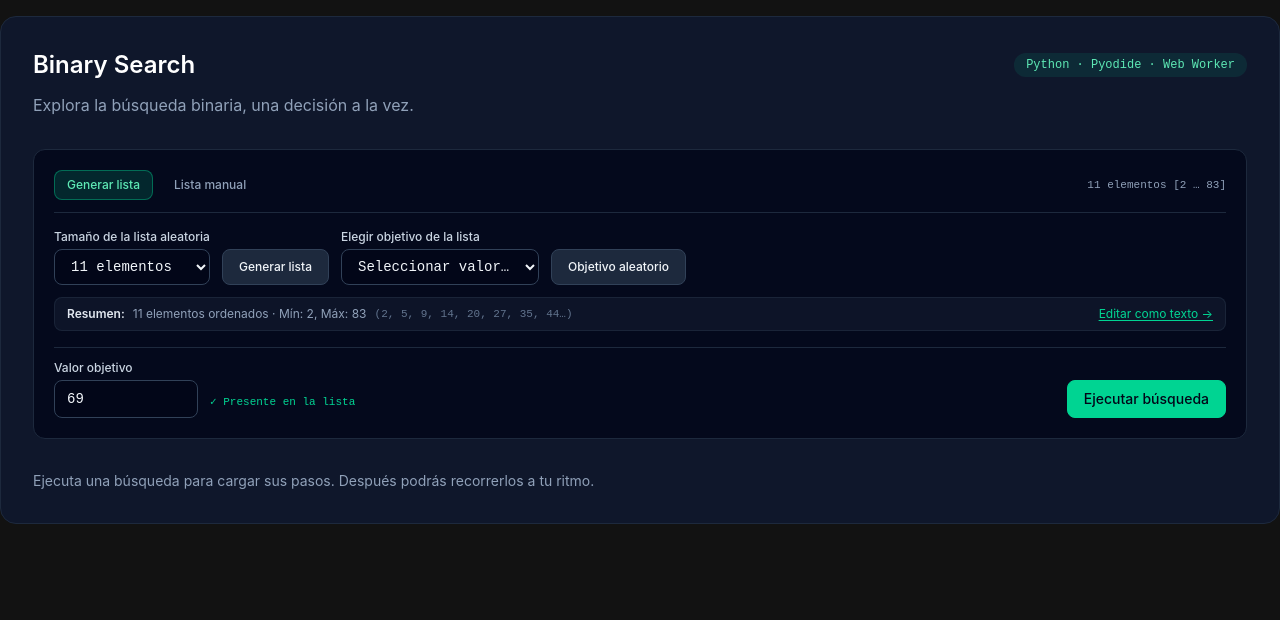
Test: Visualización por eventos › permite alternar entre modo generar lista y modo manual con validación y campo expandible
Expected: the text "Resumen:" is shown, left=67, top=306, right=125, bottom=322
Note: Switch to manual mode:
Click the tab "Lista manual" at (210, 185), box left=161, top=170, right=259, bottom=200
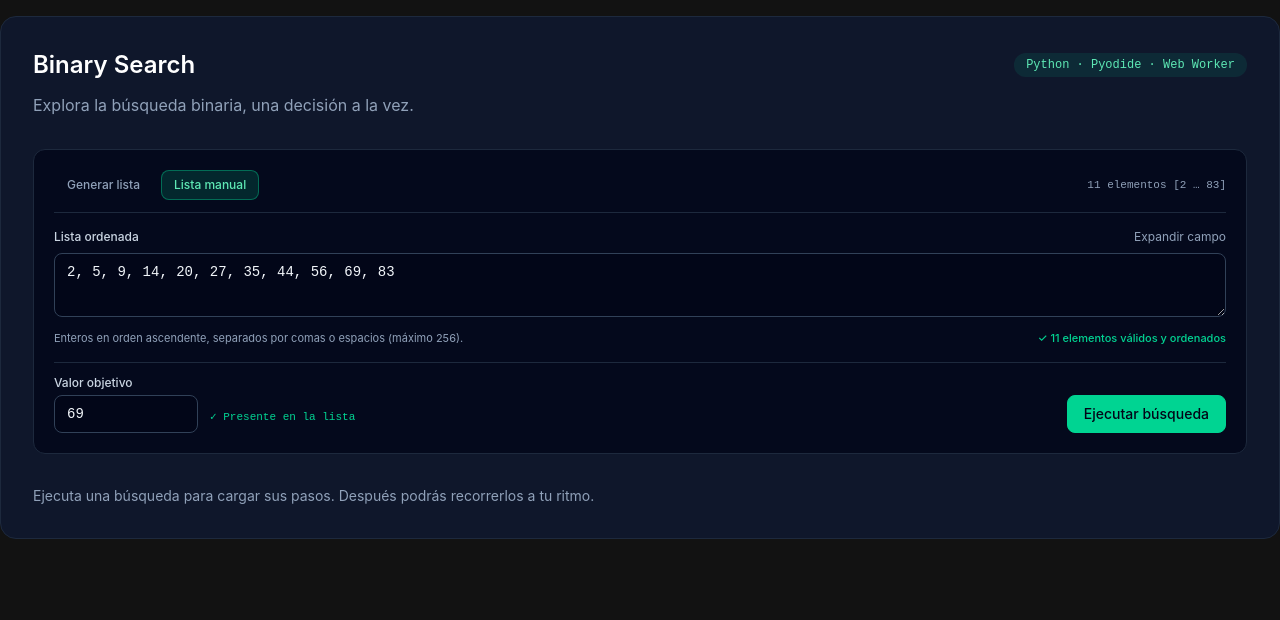
Now the button "Expandir campo" is shown
Click the button "Expandir campo" at (1180, 237), box left=1134, top=229, right=1226, bottom=245
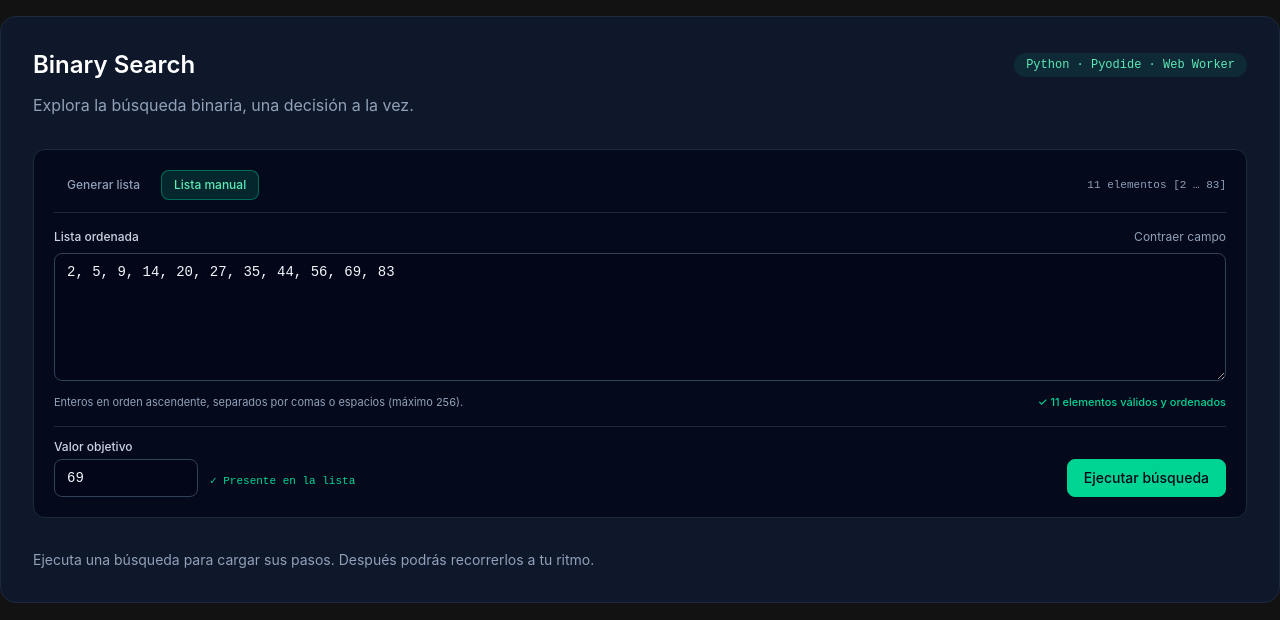
Now the button "Contraer campo" is shown, box left=1134, top=229, right=1226, bottom=245
Note: Validation feedback for unsorted list:
Replace the text in the text box named "Lista ordenada" with "10, 5, 20" at (640, 317), box left=54, top=253, right=1226, bottom=381
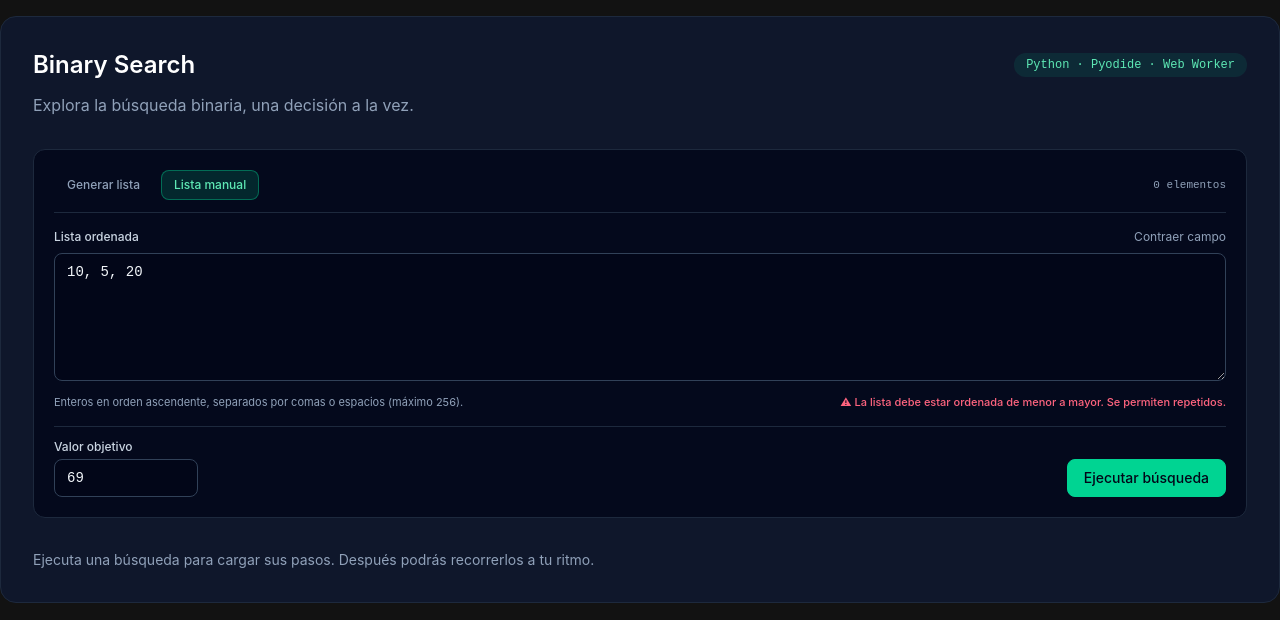
Now the text "La lista debe estar ordenada" is shown, box left=855, top=395, right=1226, bottom=409
